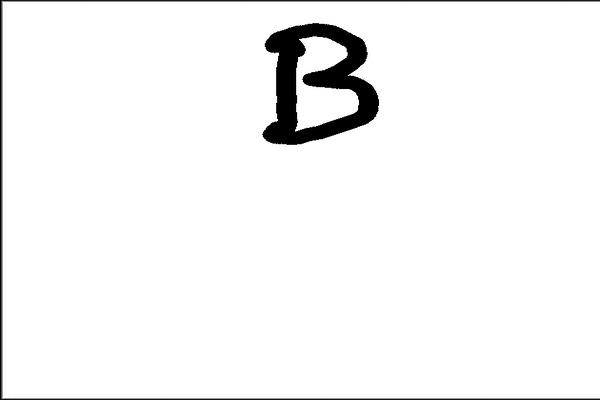B: (255, 10, 386, 153)
